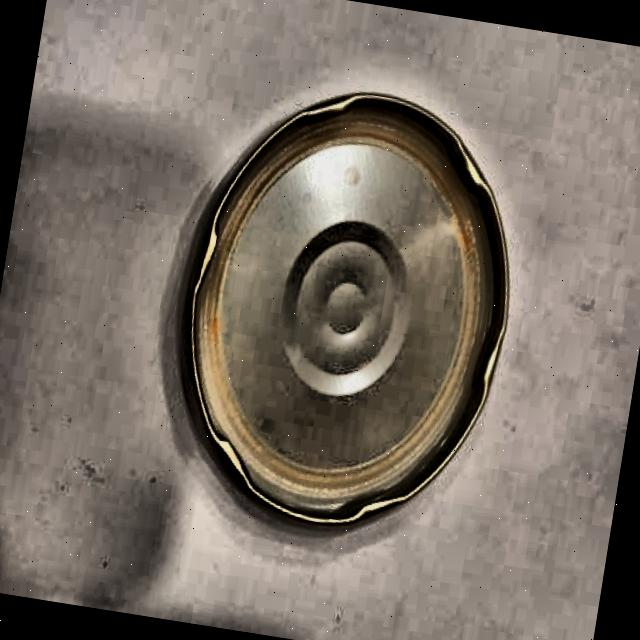metal: (156, 61, 544, 552)
